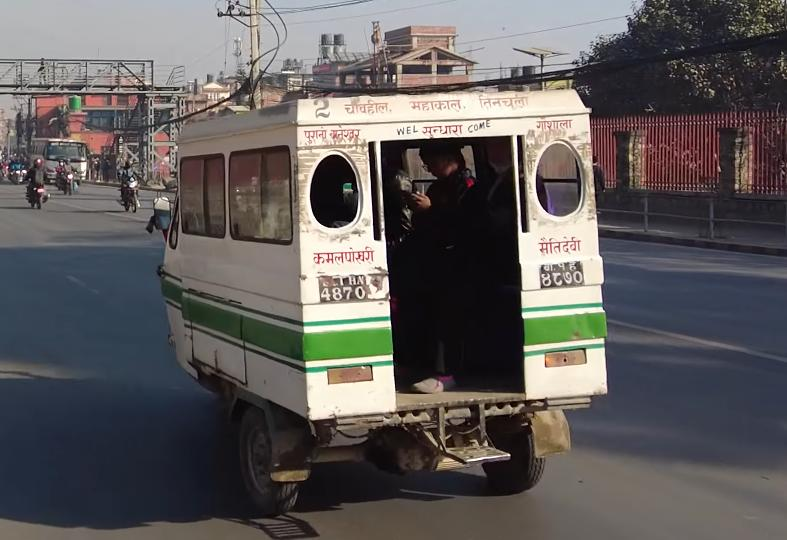tempo: (146, 86, 606, 508)
